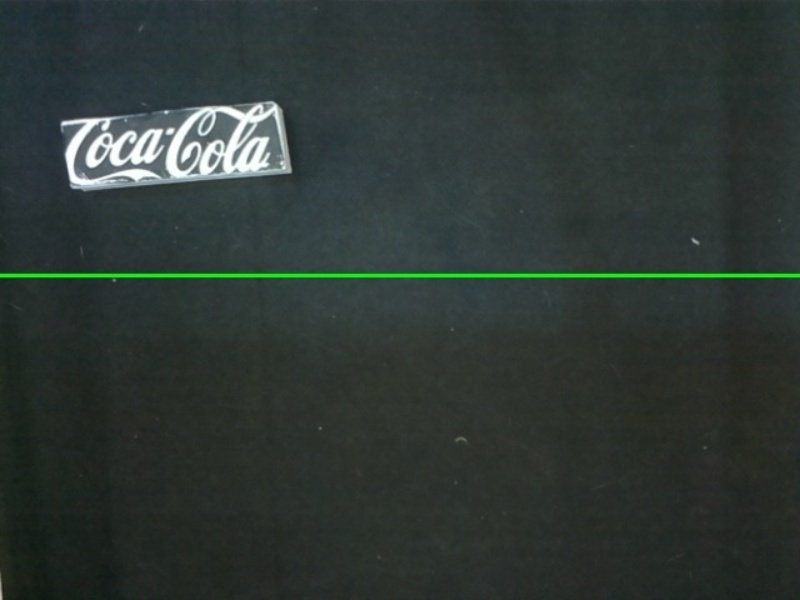coca-cola: (59, 97, 289, 192)
